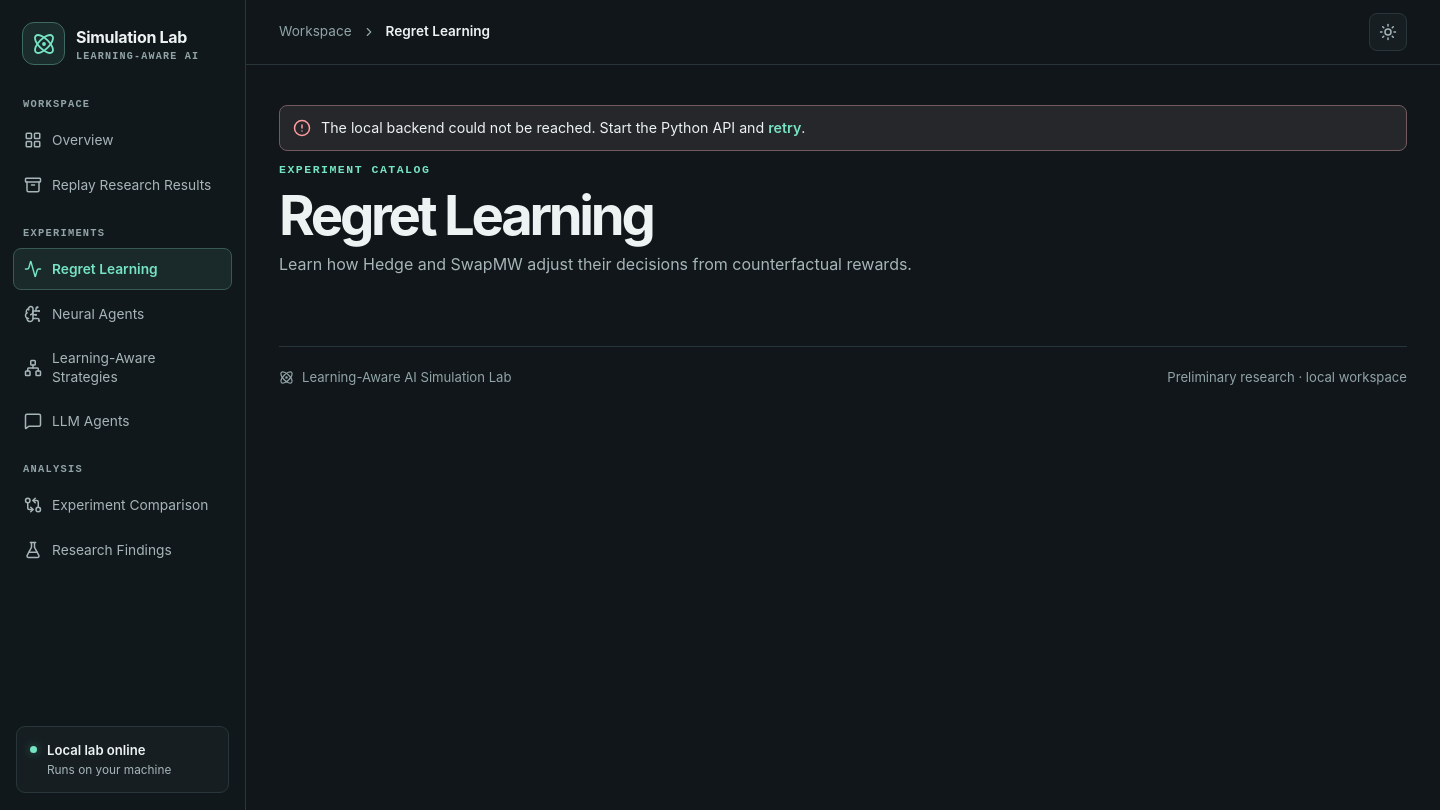
Test: retries automatically once per recovery and keeps manual retry available
Expected: the text "API unavailable" is shown, 47,742 -> 146,758
Click the button "retry" at [785, 128], box 768,117 -> 801,139
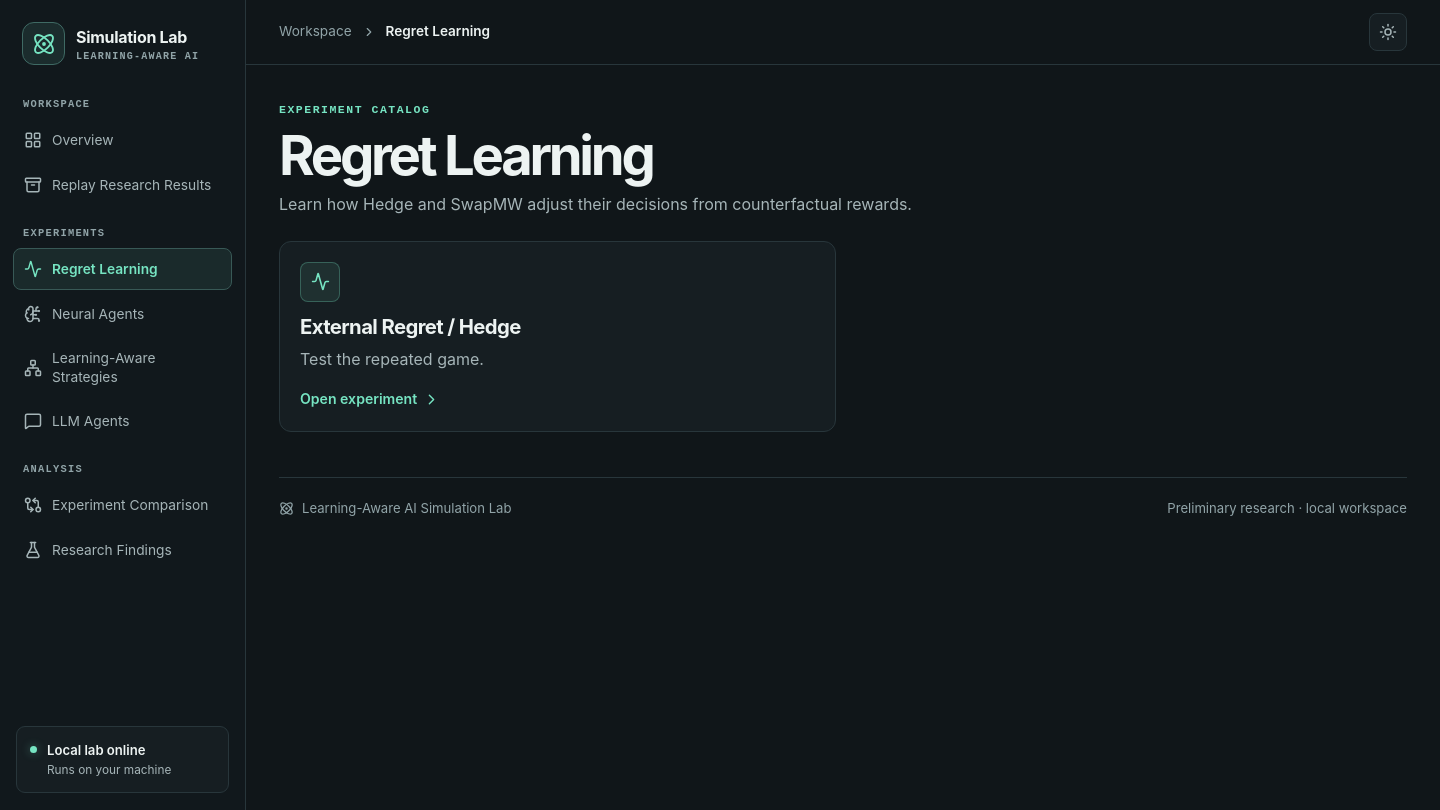
Now the heading "External Regret / Hedge" is shown, box 300,314 -> 521,339
